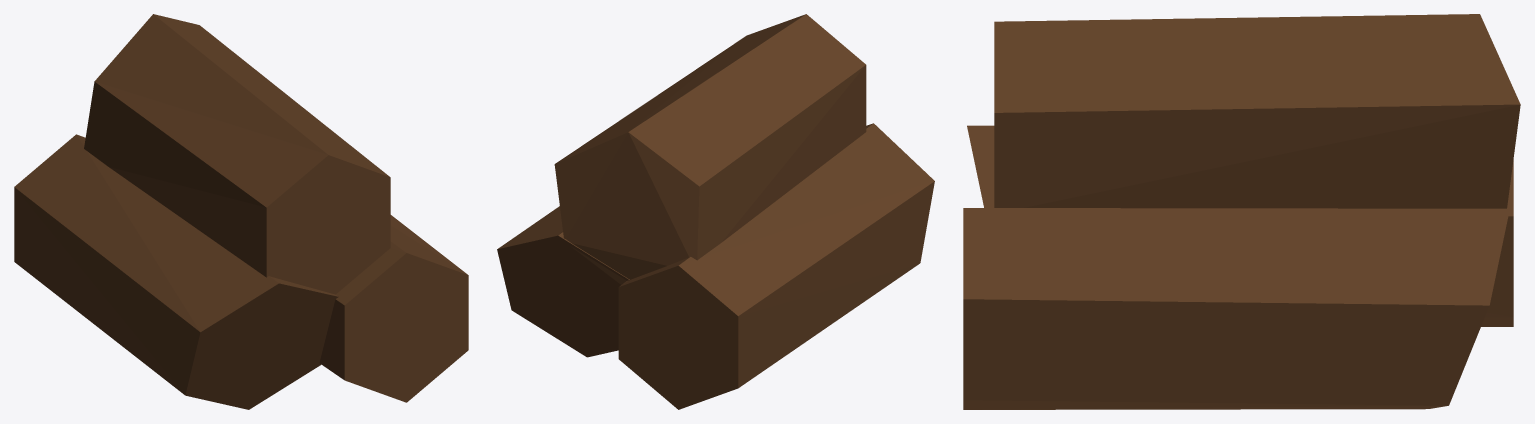
File: wood_logs.FBX
3 views of the same model, side by side, from view 1: azimuth 30°, elevation 25°; view 2: azimuth 150°, elevation 25°; view 3: azimuth 270°, elevation 25° (orthographic). The views are drawn at different scales.
Parts seen in each view (by area): view 1: wood_logs; view 2: wood_logs; view 3: wood_logs.
Boxes of the visible parts, x1,y1,x2,y2 form: wood_logs: [14, 14, 468, 409]; wood_logs: [497, 14, 934, 409]; wood_logs: [963, 14, 1520, 409].
Bounding box in the file's own units: 31.28 × 29.36 × 41.74.
